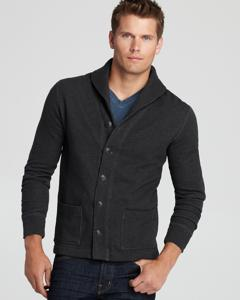S_cardigan sweater: (21, 66, 212, 271)
